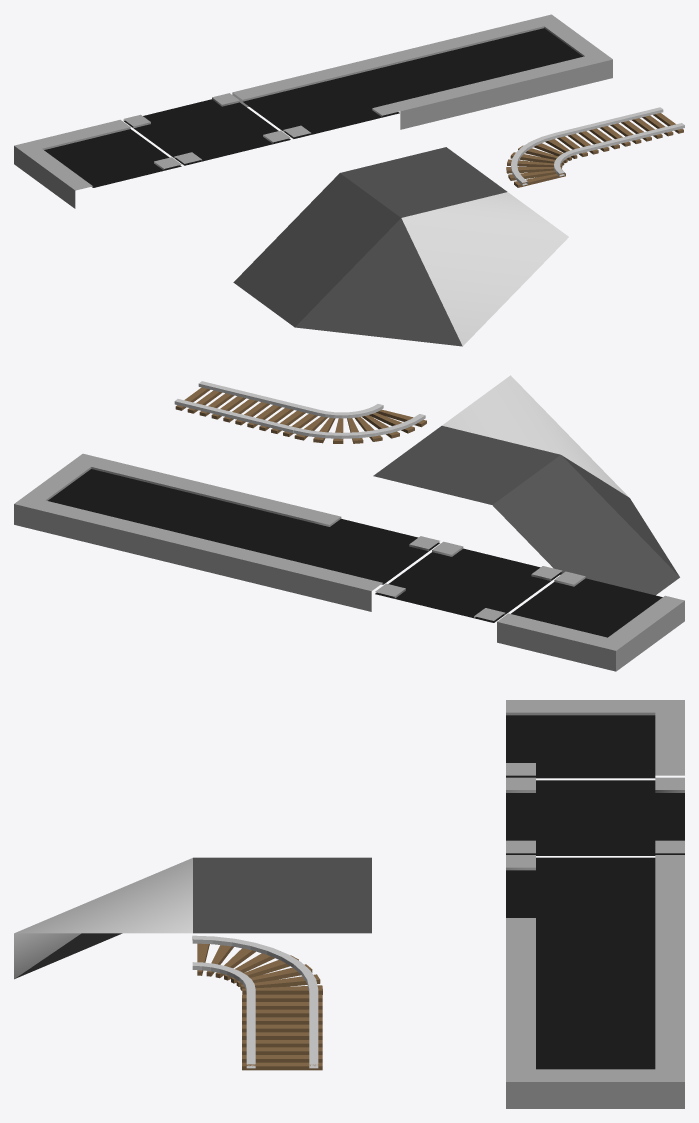
The model's file is Road.fbx.
The picture shows the model from 3 angles, top to bottom: view 1: azimuth 30°, elevation 25°; view 2: azimuth 150°, elevation 25°; view 3: azimuth 270°, elevation 25°; orthographic projection. The views are drawn at different scales.
Visible parts, largest first — view 1: SlopeCornerDown, Slope, SlopeCorner, Ground, Intersection.001, Deadend, Junction.001, Straight, Turn.001, Straight.001, Turn, Deadend.001 (+6 smaller); view 2: Slope, Ground, Intersection.001, Turn, Deadend, Junction.001, SlopeCornerDown, Straight, Straight.001, Turn.001, Junction, Deadend.001 (+6 smaller); view 3: Ground, Intersection.001, Deadend, Junction.001, Turn.001, Straight.001, SlopeCornerDown, Deadend.001, TrainStraight, Turn, Straight, Junction (+5 smaller).
Boxes of the visible parts, x1,y1,x2,y2 form: SlopeCornerDown: (401, 192, 568, 346); Slope: (233, 173, 400, 327); SlopeCorner: (295, 218, 462, 346); Ground: (340, 147, 507, 217); Intersection.001: (123, 99, 290, 165); Deadend: (445, 14, 612, 103); Junction.001: (243, 76, 399, 138); Straight: (339, 40, 506, 129); Turn.001: (44, 129, 181, 187); Straight.001: (349, 50, 493, 104); Turn: (14, 119, 181, 208); Deadend.001: (456, 28, 582, 78); Slope: (492, 455, 679, 595); Ground: (373, 426, 560, 504); Intersection.001: (375, 548, 562, 622); Turn: (497, 571, 684, 671); Deadend: (14, 453, 201, 553); Junction.001: (266, 518, 439, 584); SlopeCornerDown: (442, 375, 628, 496); Straight: (133, 482, 320, 582); Straight.001: (147, 493, 309, 553); Turn.001: (511, 578, 662, 637); Junction: (252, 512, 439, 611); Deadend.001: (48, 469, 190, 524); Ground: (193, 857, 371, 933); Intersection.001: (506, 780, 684, 855); Deadend: (506, 1006, 684, 1108); Junction.001: (506, 857, 655, 933); Turn.001: (506, 715, 655, 778); Straight.001: (536, 933, 655, 1008); SlopeCornerDown: (14, 858, 192, 978); Deadend.001: (536, 1009, 655, 1069); TrainStraight: (242, 994, 322, 1070); Turn: (506, 700, 684, 775); Straight: (506, 930, 684, 1006); Junction: (506, 855, 684, 930).
Bounding box in the file's own units: 2020 × 320 × 1500.
